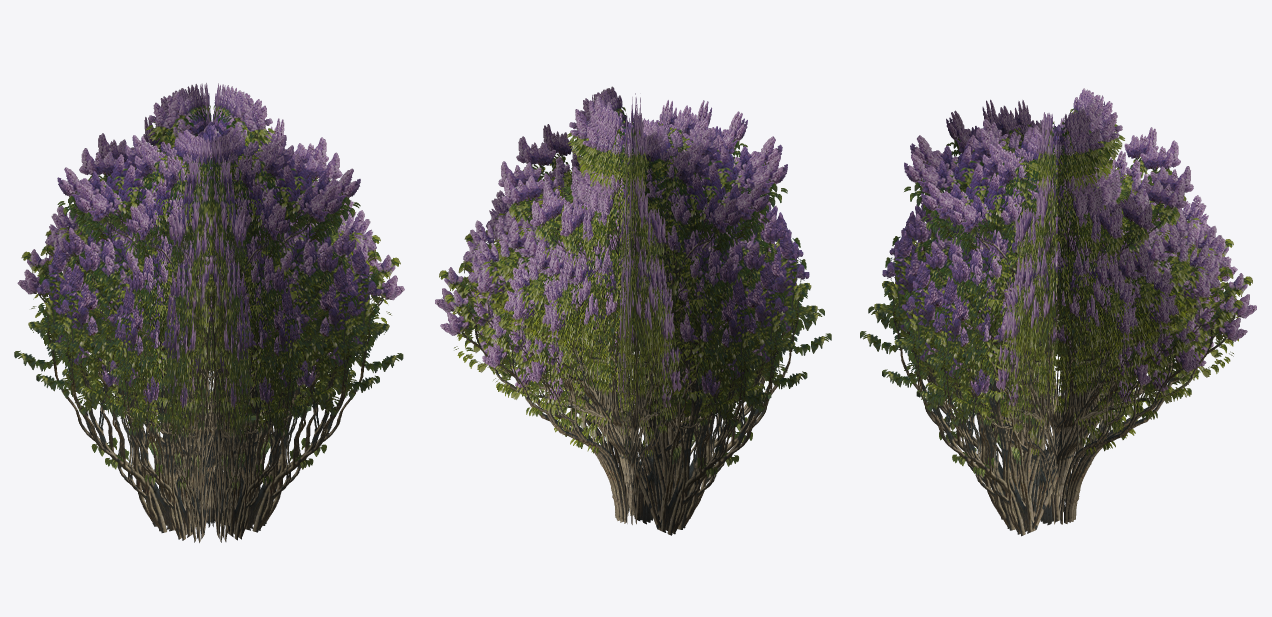
File: bush5.fbx
3 renders of one model, left to right at view 1: azimuth 30°, elevation 25°; view 2: azimuth 150°, elevation 25°; view 3: azimuth 270°, elevation 25°, orthographic.
Visible parts, largest first — view 1: bush5.002; view 2: bush5.002; view 3: bush5.002.
Boxes of the visible parts, x1,y1,x2,y2 form: bush5.002: (14, 83, 404, 542); bush5.002: (435, 86, 831, 535); bush5.002: (860, 88, 1256, 536).
Bounding box in the file's own units: 8.15 × 9.51 × 8.15.
1 material, 1 textured.
